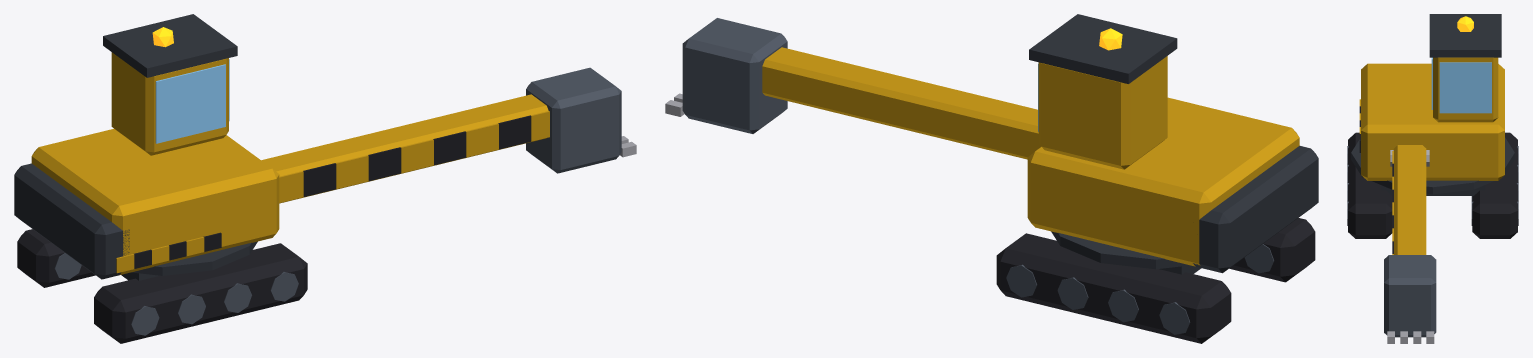
File: excavator.glb
The picture shows the model from 3 angles, left to right: view 1: azimuth 30°, elevation 25°; view 2: azimuth 150°, elevation 25°; view 3: azimuth 270°, elevation 25°; orthographic projection. The views are drawn at different scales.
Visible parts, largest first — view 1: Upper, ExTracks; view 2: Upper, ExTracks; view 3: Upper, ExTracks.
Boxes of the visible parts, bbox=[...] form: Upper: bbox=[14, 14, 636, 279]; ExTracks: bbox=[17, 229, 307, 343]; Upper: bbox=[665, 14, 1318, 273]; ExTracks: bbox=[996, 218, 1315, 343]; Upper: bbox=[1351, 14, 1514, 343]; ExTracks: bbox=[1347, 132, 1518, 238].
Bounding box in the file's own units: 7.95 × 3.3 × 2.62.
